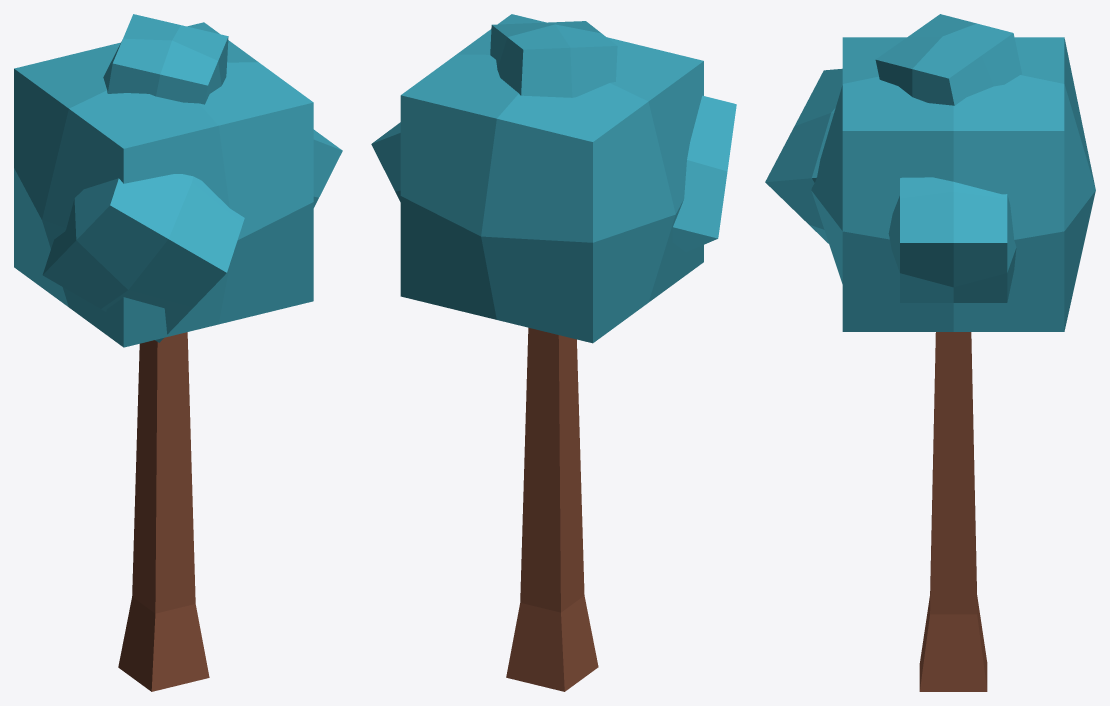
Rendered from Tree_43_summer_blue_mat.fbx.
3 views of the same model, side by side, from view 1: azimuth 30°, elevation 25°; view 2: azimuth 150°, elevation 25°; view 3: azimuth 270°, elevation 25° (orthographic).
Parts seen in each view (by area): view 1: Tree_43_summer_blue_mat; view 2: Tree_43_summer_blue_mat; view 3: Tree_43_summer_blue_mat.
Part boxes in pixels (x1,y1,x2,y2): Tree_43_summer_blue_mat: [14, 14, 342, 691]; Tree_43_summer_blue_mat: [371, 14, 736, 691]; Tree_43_summer_blue_mat: [765, 14, 1095, 691].
Size of the model in its own units: 76.72 by 158 by 73.68.
